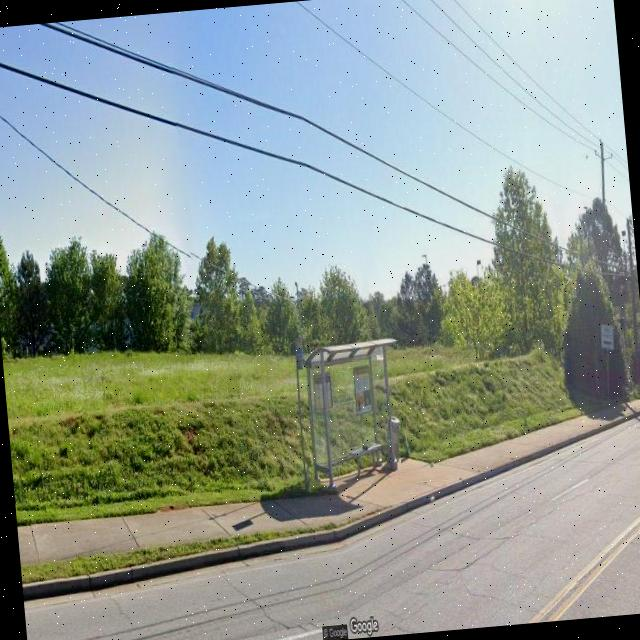seating: (348, 440, 384, 478)
shelter: (296, 336, 408, 497)
trash_can: (384, 416, 404, 472)
